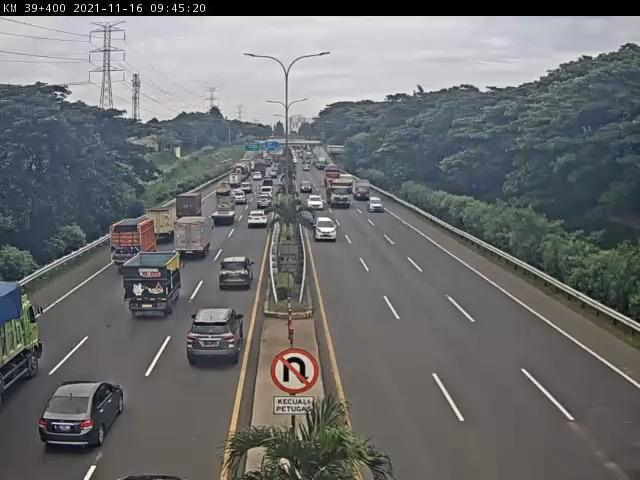car: (40, 381, 127, 449), (187, 309, 244, 366), (218, 258, 254, 294), (315, 216, 340, 242), (247, 213, 268, 230), (236, 185, 255, 202), (233, 191, 250, 207), (256, 200, 271, 214), (259, 191, 276, 203)
truck: (124, 250, 183, 318), (107, 221, 155, 269), (172, 218, 212, 261), (145, 208, 174, 242), (176, 197, 203, 222), (211, 202, 236, 229), (213, 182, 230, 200)
